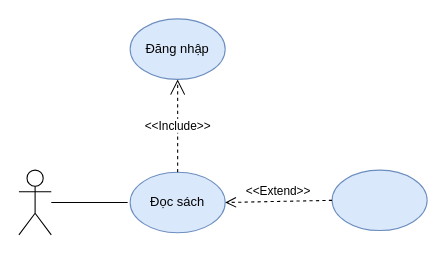
Image size: 446x276. Some labels were removed from this diagram. The box of each missing label's shape, as (x1, y1, x2, y2) in pixels:
tùy chỉnh: (331, 169, 427, 231)
User: (18, 169, 51, 235)
